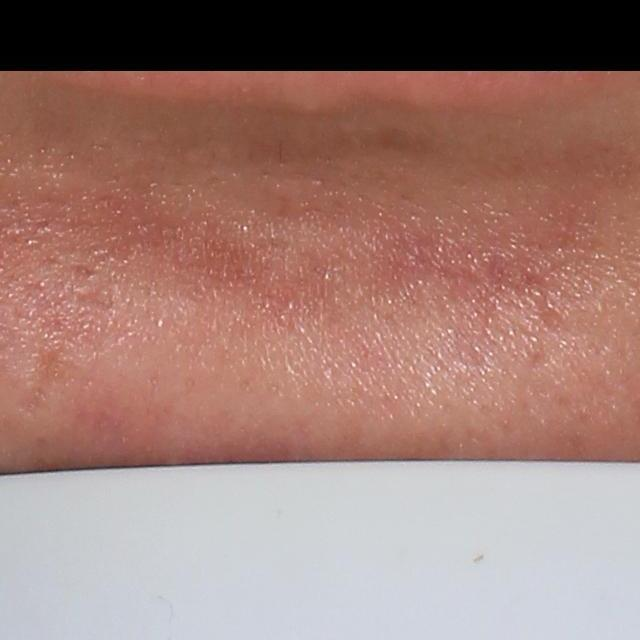atrophic_scar: (13, 335, 72, 418), (67, 261, 93, 286)
